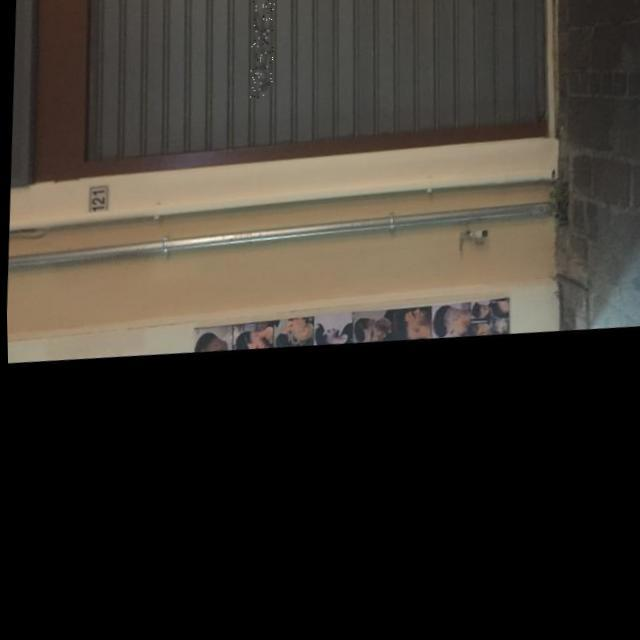-: (248, 0, 278, 106)
